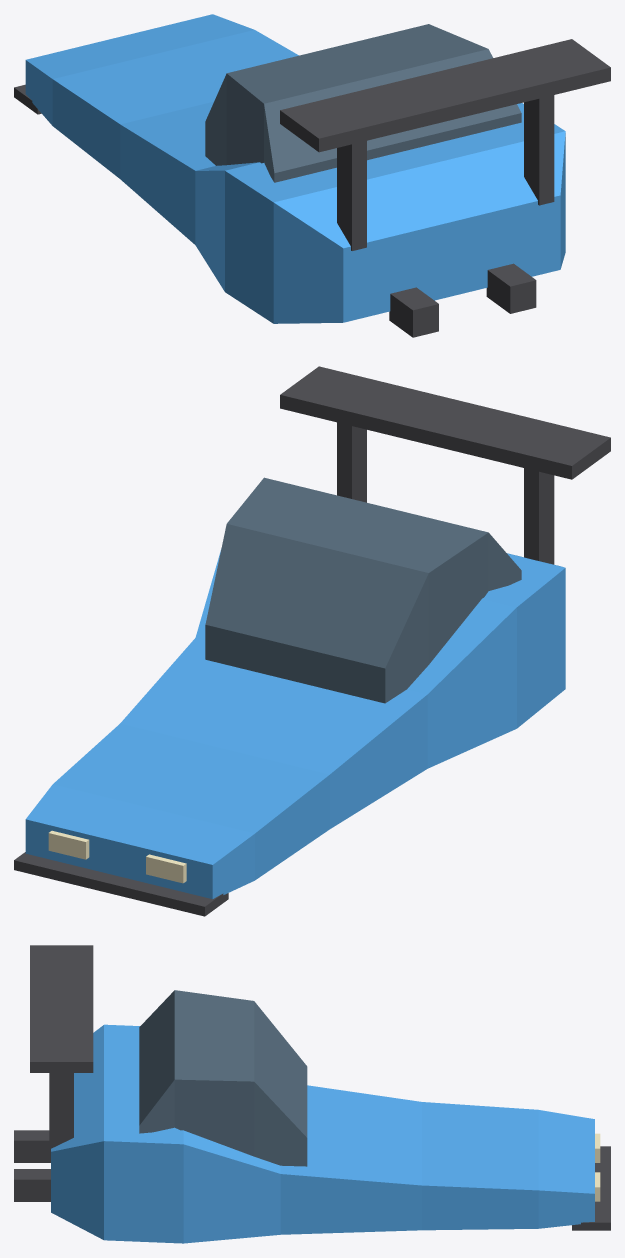
The model's file is C_Cartoon_Body.fbx.
3 renders of one model, top to bottom at view 1: azimuth 30°, elevation 25°; view 2: azimuth 150°, elevation 25°; view 3: azimuth 270°, elevation 25°, orthographic. The views are drawn at different scales.
Visible parts, largest first — view 1: C_Cartoon_Body, C_Cartoon_Canopy, C_Cartoon_Wing, C_Cartoon_WingPost_R, C_Cartoon_WingPost_L, C_Cartoon_Exhaust_R, C_Cartoon_Exhaust_L; view 2: C_Cartoon_Body, C_Cartoon_Canopy, C_Cartoon_Wing, C_Cartoon_Splitter, C_Cartoon_WingPost_L, C_Cartoon_WingPost_R, C_Cartoon_Light_R, C_Cartoon_Light_L; view 3: C_Cartoon_Body, C_Cartoon_Canopy, C_Cartoon_Wing, C_Cartoon_WingPost_R, C_Cartoon_Splitter, C_Cartoon_Exhaust_R, C_Cartoon_Exhaust_L.
Boxes of the visible parts, x1,y1,x2,y2 form: C_Cartoon_Body: [25, 14, 565, 323]; C_Cartoon_Canopy: [205, 24, 521, 182]; C_Cartoon_Wing: [280, 39, 610, 152]; C_Cartoon_WingPost_R: [524, 95, 554, 205]; C_Cartoon_WingPost_L: [337, 141, 366, 250]; C_Cartoon_Exhaust_R: [486, 263, 536, 313]; C_Cartoon_Exhaust_L: [389, 287, 438, 337]; C_Cartoon_Body: [25, 549, 565, 899]; C_Cartoon_Canopy: [205, 477, 521, 703]; C_Cartoon_Wing: [280, 366, 610, 479]; C_Cartoon_Splitter: [14, 852, 228, 916]; C_Cartoon_WingPost_L: [524, 468, 554, 564]; C_Cartoon_WingPost_R: [337, 422, 366, 502]; C_Cartoon_Light_R: [48, 830, 89, 859]; C_Cartoon_Light_L: [146, 854, 186, 883]; C_Cartoon_Body: [51, 1024, 594, 1243]; C_Cartoon_Canopy: [139, 990, 307, 1166]; C_Cartoon_Wing: [30, 945, 93, 1072]; C_Cartoon_WingPost_R: [49, 1073, 73, 1151]; C_Cartoon_Splitter: [572, 1146, 610, 1230]; C_Cartoon_Exhaust_R: [14, 1169, 50, 1201]; C_Cartoon_Exhaust_L: [14, 1130, 50, 1162].
Bounding box in the file's own units: 156 × 118 × 338.
